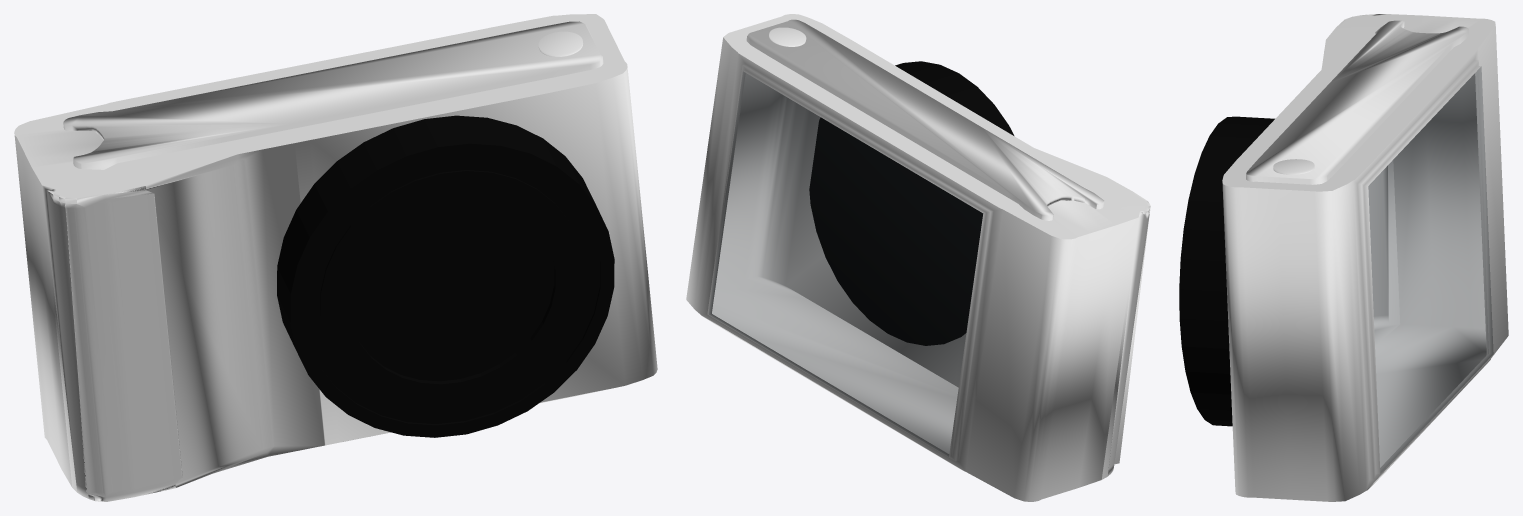
The model's file is CAMERA.glb.
The picture shows the model from 3 angles, left to right: view 1: azimuth 30°, elevation 25°; view 2: azimuth 150°, elevation 25°; view 3: azimuth 270°, elevation 25°; orthographic projection. The views are drawn at different scales.
Visible parts, largest first — view 1: Camera_Mesh_, Camera2, Camera3; view 2: Camera_Mesh_, Camera2, Camera3; view 3: Camera_Mesh_, Camera2, Camera3.
Boxes of the visible parts, x1,y1,x2,y2 form: Camera_Mesh_: (14,14,657,501); Camera2: (277,115,614,437); Camera3: (538,31,583,56); Camera_Mesh_: (686,14,1150,501); Camera2: (809,61,1014,345); Camera3: (769,27,806,46); Camera_Mesh_: (1222,14,1508,501); Camera2: (1179,116,1274,426); Camera3: (1273,159,1314,174).
Bounding box in the file's own units: 0.1227 × 0.0801 × 0.067.
Materials: 3 (1 with a texture image).
